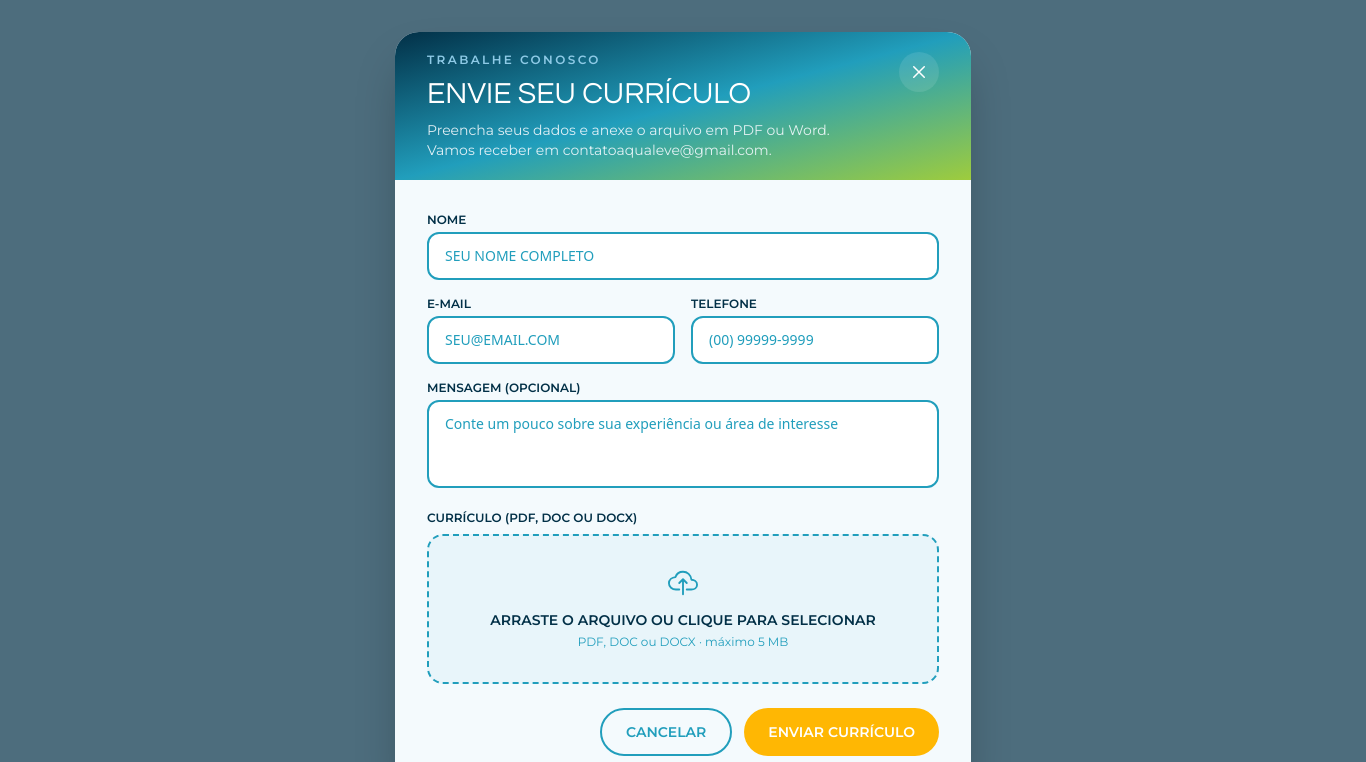
Test: EnvieCurriculo › blocks submit when required fields are missing
Click the button "Enviar currículo" at (842, 732), box 744,708 -> 939,756
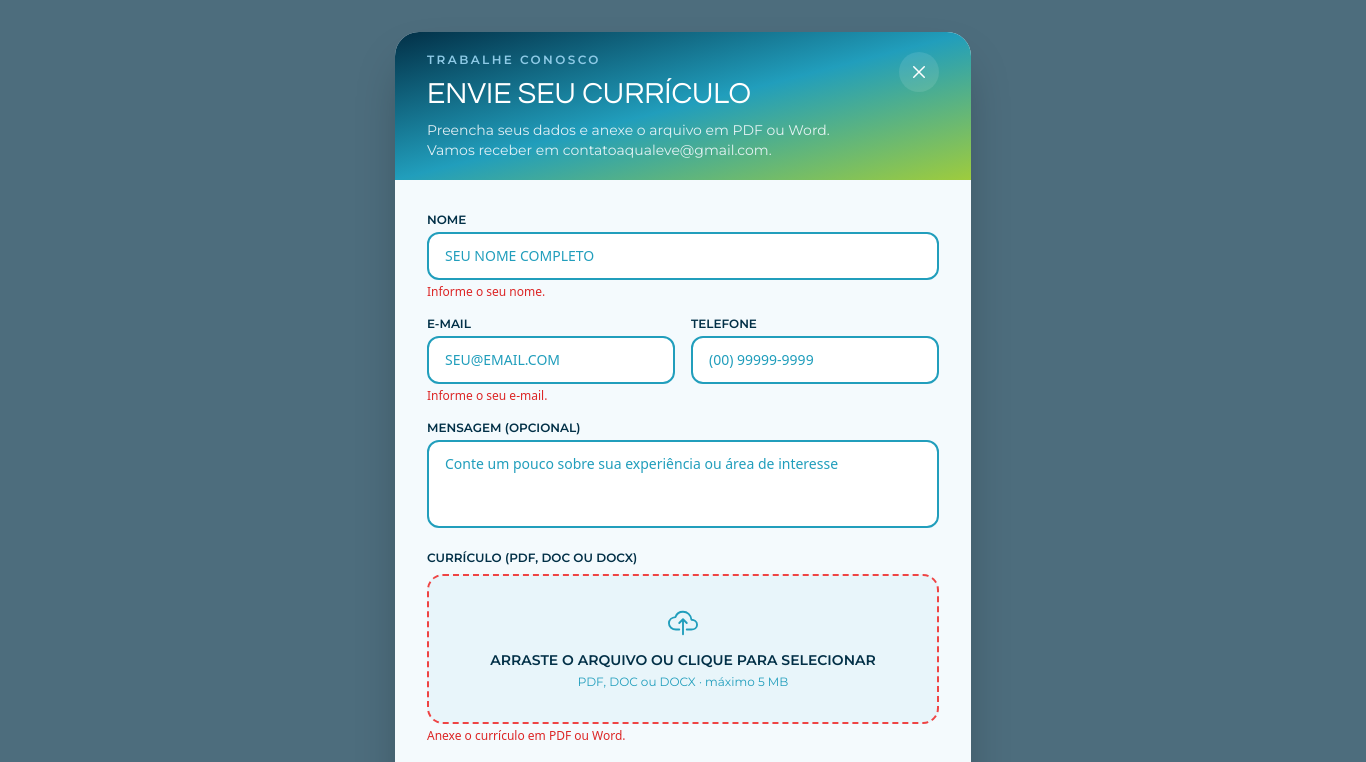
Now the text "Informe o seu nome." is shown, box 427,283 -> 545,300
Now the text "Informe o seu e-mail." is shown, box 427,387 -> 547,404
Now the text "Anexe o currículo em PDF ou Word." is shown, box 427,727 -> 626,744
